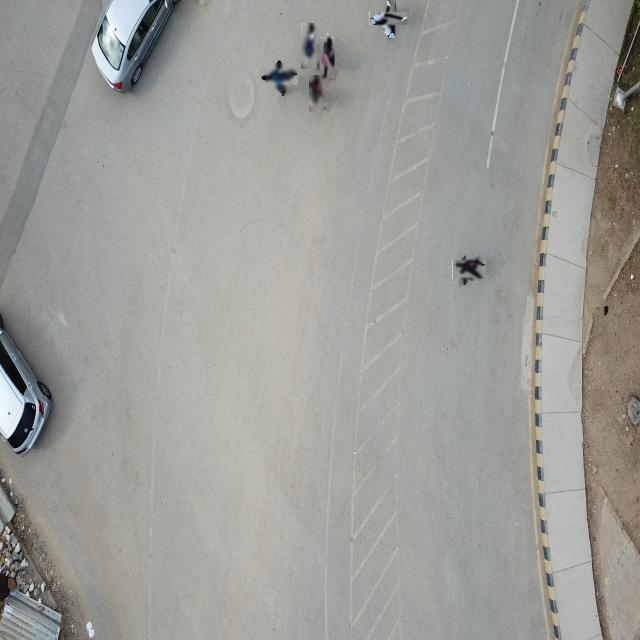Manusia: (265, 63, 294, 92), (301, 23, 318, 70), (456, 257, 483, 284), (376, 6, 402, 33), (320, 37, 336, 80), (310, 75, 326, 113)
